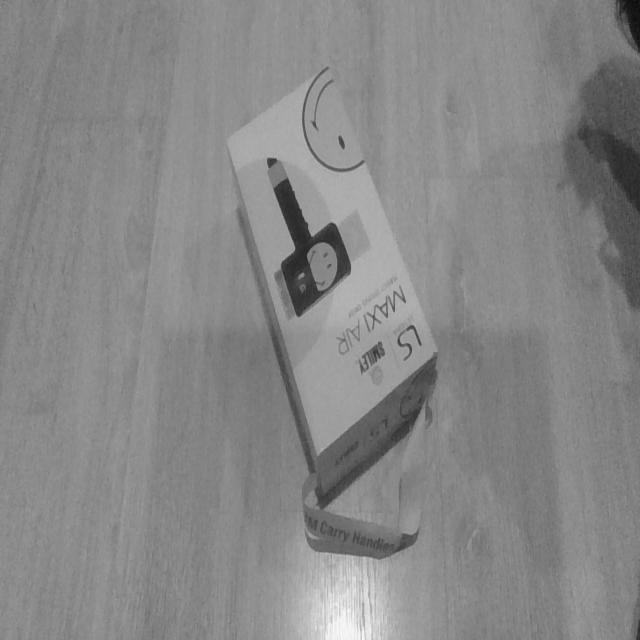Dryer: (225, 61, 439, 506)
